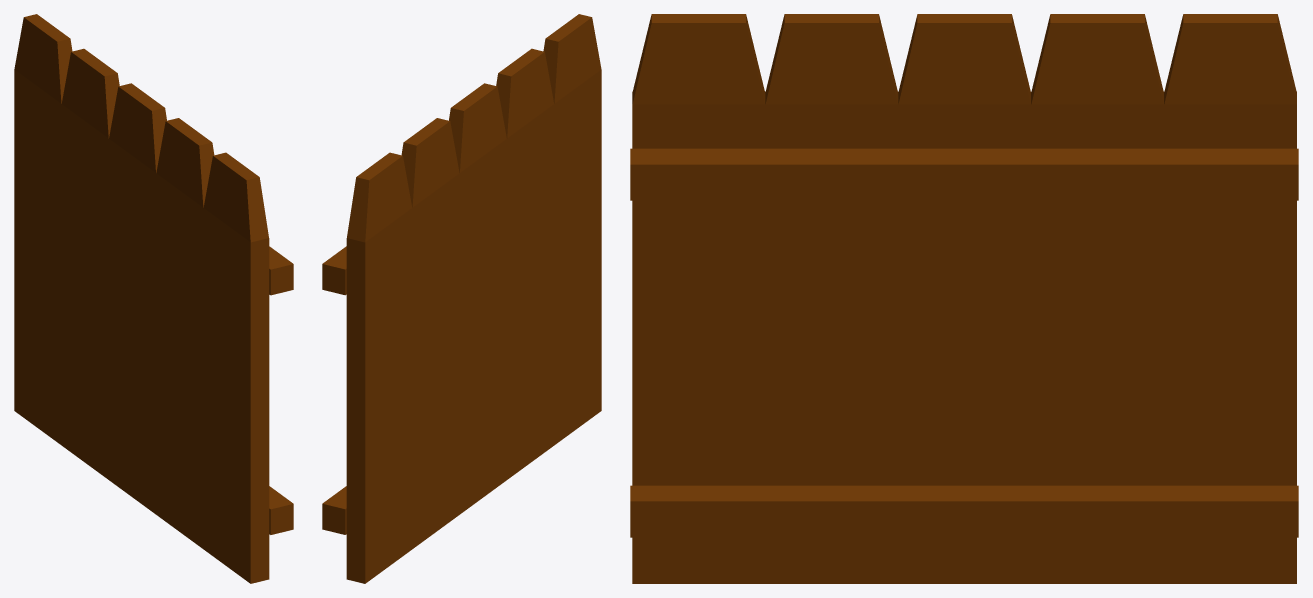
The model's file is FencePost 1.fbx.
The picture shows the model from 3 angles, left to right: view 1: azimuth 30°, elevation 25°; view 2: azimuth 150°, elevation 25°; view 3: azimuth 270°, elevation 25°; orthographic projection. The views are drawn at different scales.
Parts seen in each view (by area): view 1: Cube.001, Cube.003, Cube.002; view 2: Cube.001, Cube.003, Cube.002; view 3: Cube.001, Cube.003, Cube.002.
Part boxes in pixels (x1,y1,x2,y2): Cube.001: (14,14,269,583); Cube.003: (269,486,293,534); Cube.002: (269,246,293,295); Cube.001: (346,14,601,583); Cube.003: (322,486,346,534); Cube.002: (322,246,346,295); Cube.001: (632,14,1296,583); Cube.003: (630,485,1298,537); Cube.002: (630,148,1298,200).
Size of the model in its own units: 103 by 928 by 1006.
